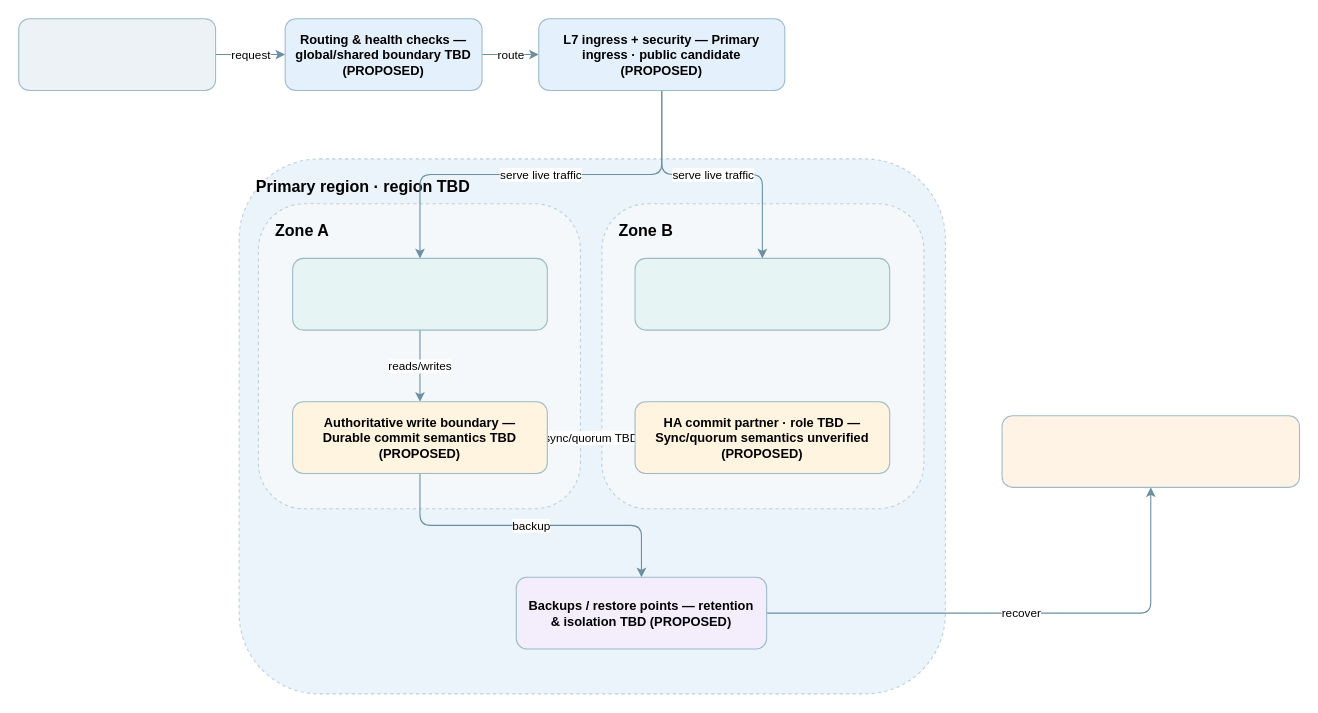
Some shapes in this 1318 by 713 pixel diagram are drawn without their labels. Each missing label, with the centre of its shape:
Backup / broader DR scope TBD — Not an approved DR strategy (PROPOSED): point (1150, 451)
Consumers — Product flows from BRD (PROPOSED): point (117, 54)
Serving app tier A — Traffic-serving · candidate (PROPOSED): point (419, 293)
Serving app tier B — Traffic-serving · candidate (PROPOSED): point (762, 293)
